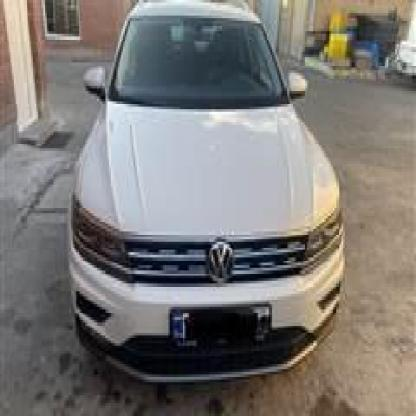Car: (51, 0, 348, 393)
